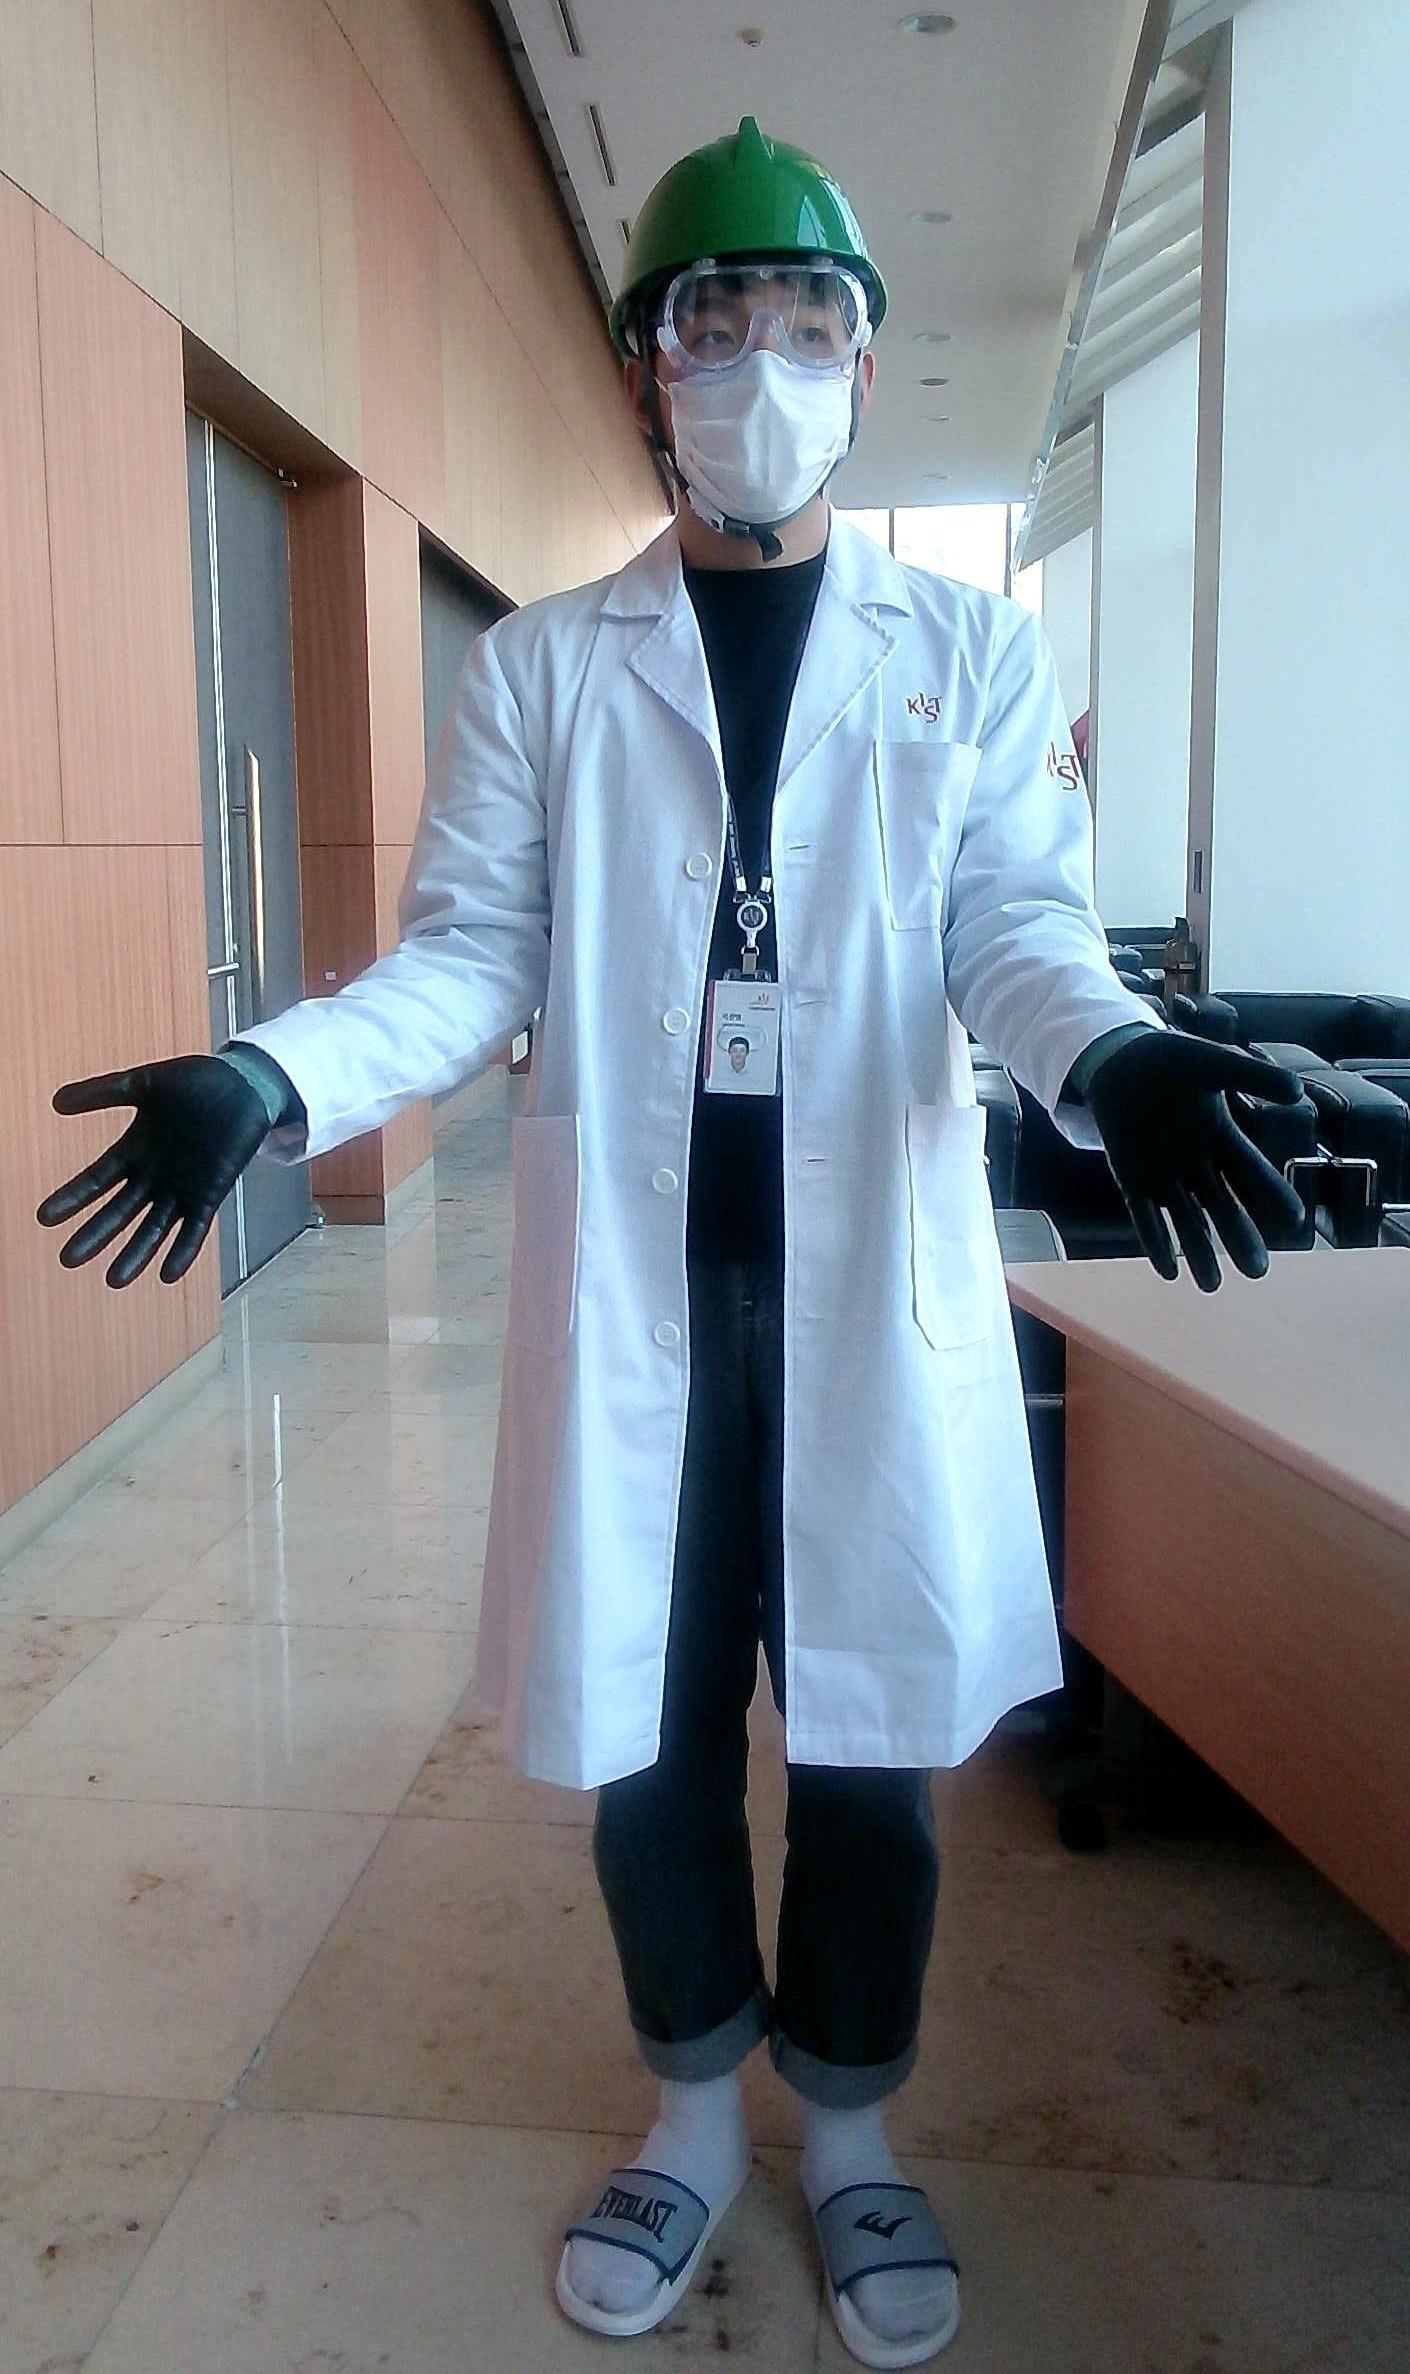lab_coat: (441, 586, 1083, 1723)
